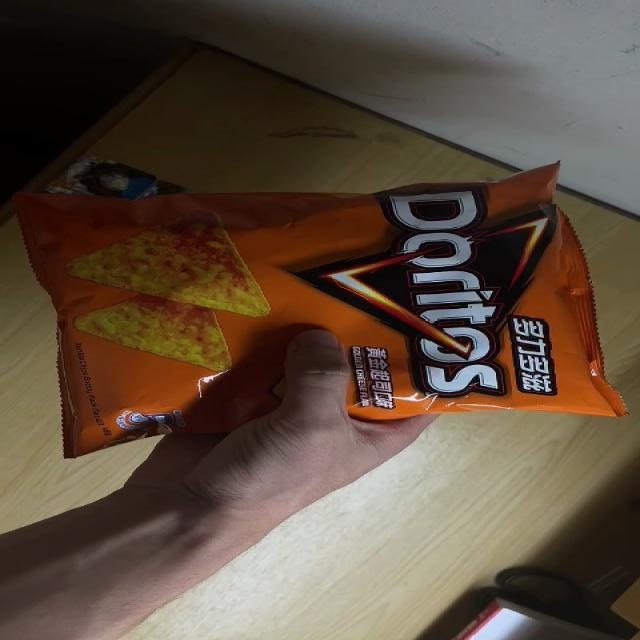Doritos: (12, 164, 628, 459)
